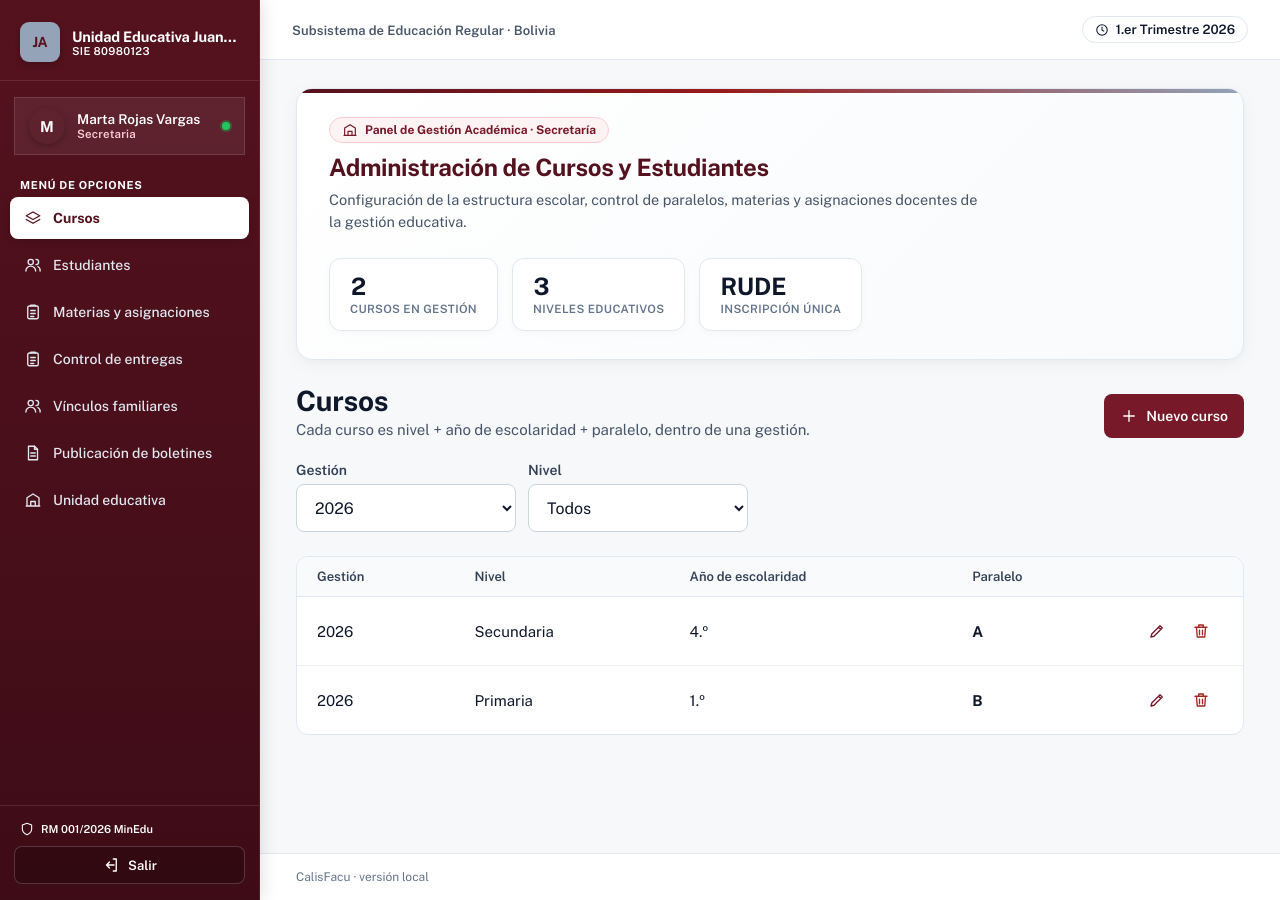
Scenario: Cursos (US-18, criterio 1) › debe mostrar en el formulario el rechazo de un curso repetido
Click the button "Nuevo curso". click: [1174, 416]
box: x1=1104 y1=394 x2=1244 y2=438
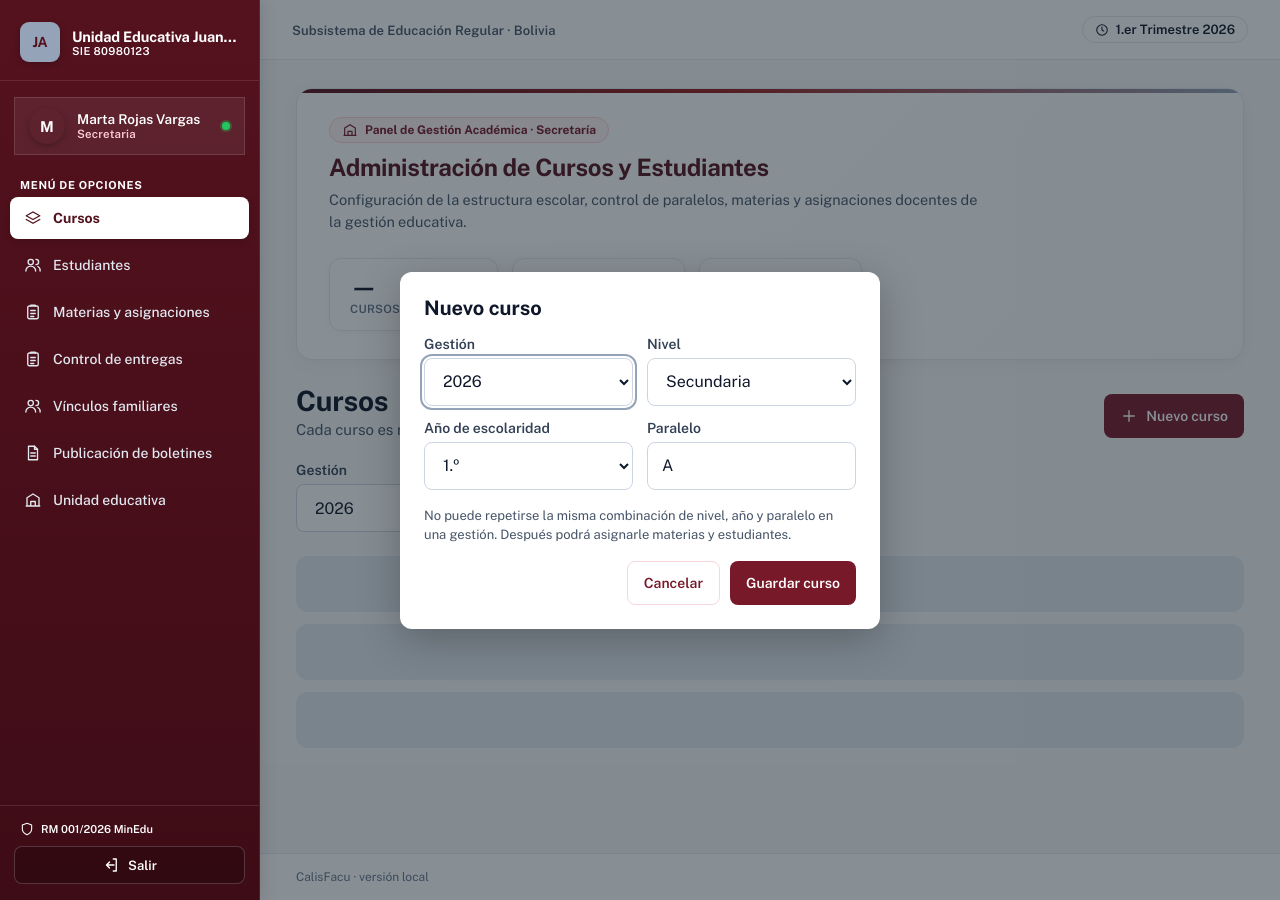
Click the button "Guardar curso". click: [793, 582]
box: x1=730 y1=560 x2=856 y2=604
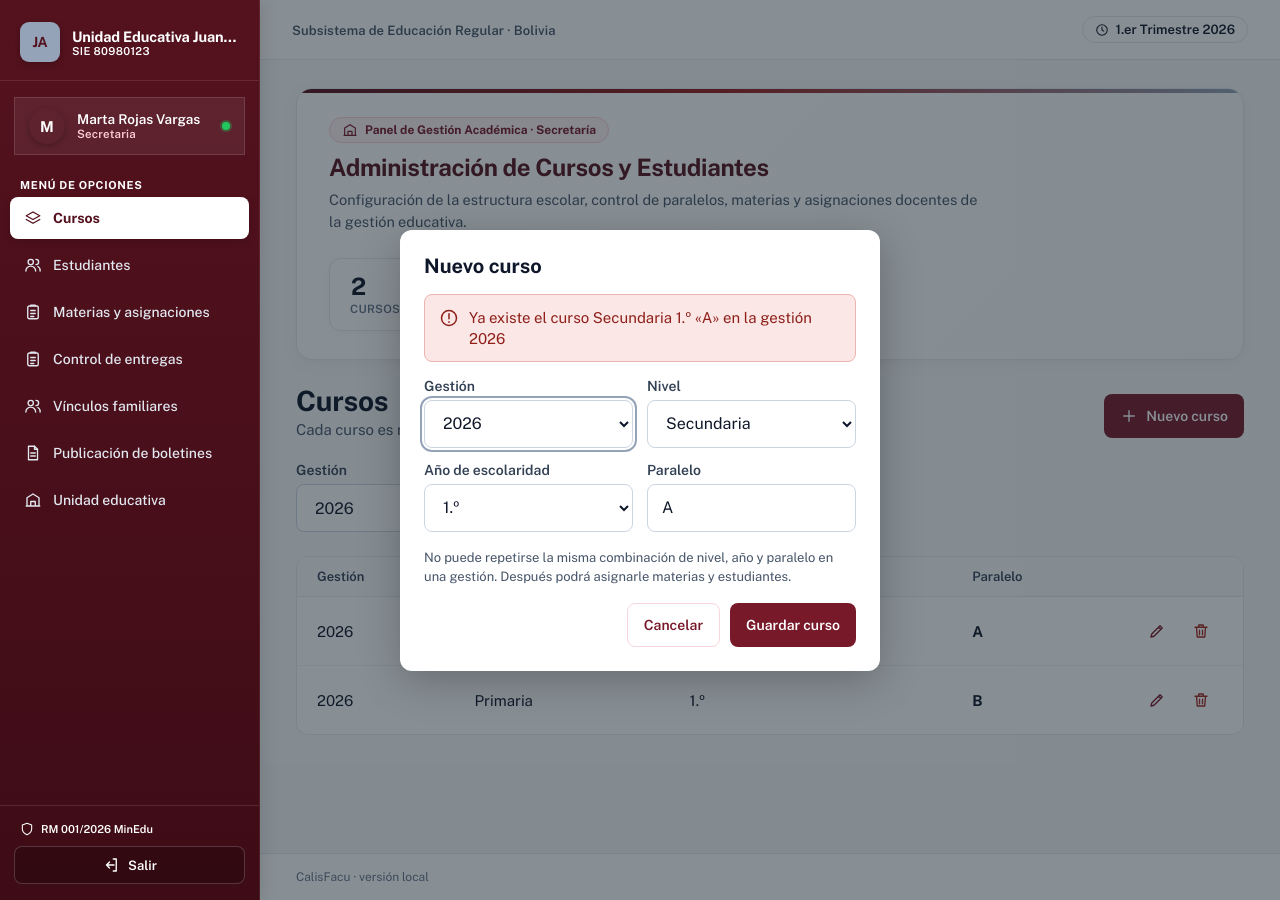
expect the message shows "Ya existe el curso Secundaria 1.º «A»": met, box x1=469 y1=308 x2=812 y2=346
